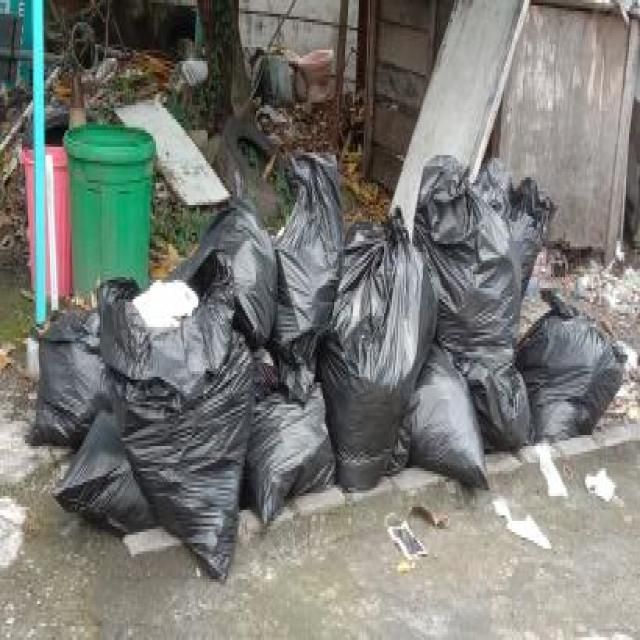Vinyl: (88, 248, 265, 594), (310, 202, 438, 496), (230, 307, 382, 548), (412, 141, 552, 373), (512, 286, 629, 446)
